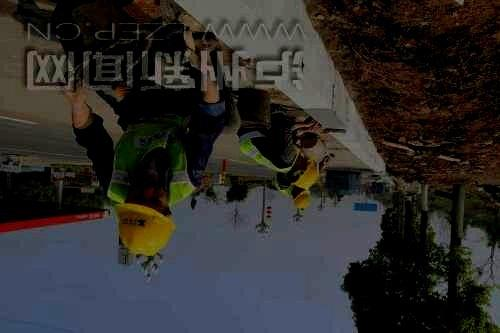helmet: (112, 166, 178, 257), (290, 185, 312, 209)
